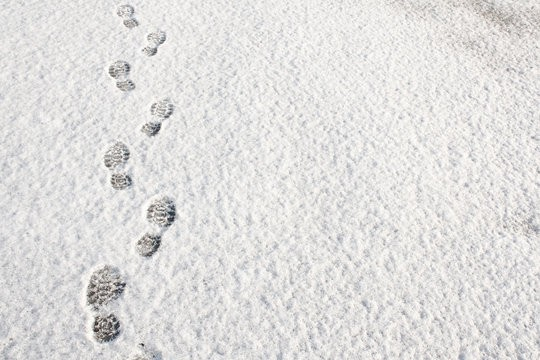human_footprint: (81, 259, 132, 343), (138, 193, 186, 261), (103, 138, 138, 193), (141, 96, 179, 136), (106, 56, 138, 92), (140, 30, 170, 58), (111, 3, 140, 28)
